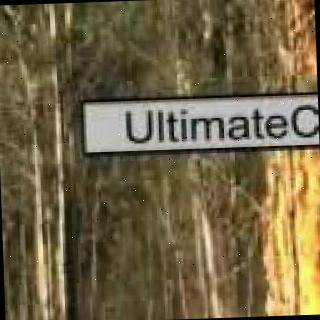fire: (265, 150, 320, 316), (280, 3, 318, 78)
